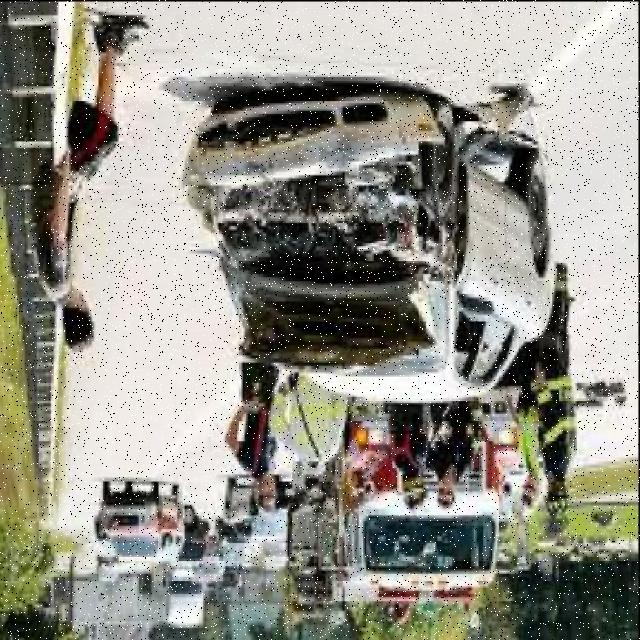damage: (184, 106, 452, 372)
